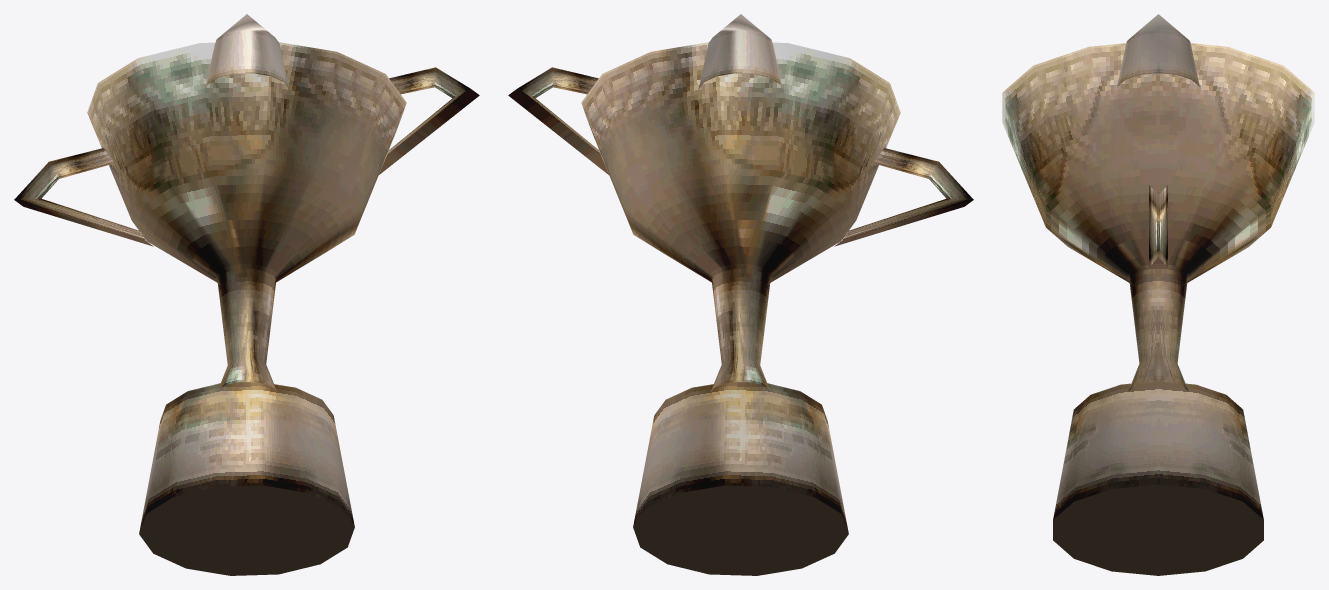
The model's file is ps2_save-icons_worldtoursoccer2005.glb.
3 views of the same model, side by side, from view 1: azimuth 30°, elevation 25°; view 2: azimuth 150°, elevation 25°; view 3: azimuth 270°, elevation 25° (orthographic).
Visible parts, largest first — view 1: list.ico; view 2: list.ico; view 3: list.ico.
Part boxes in pixels (<box>): list.ico: <box>14,14,479,575</box>; list.ico: <box>508,14,973,575</box>; list.ico: <box>1002,14,1314,575</box>.
Bounding box in the file's own units: 4.58 × 4.95 × 2.71.
Materials: 1 (1 with a texture image).
